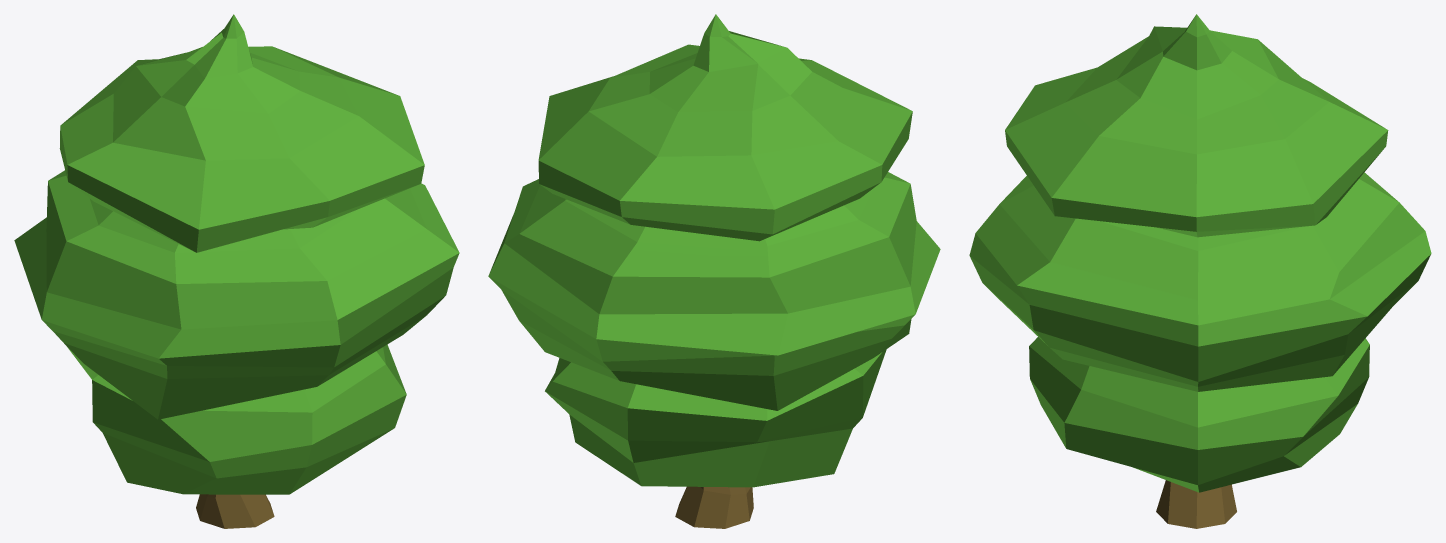
File: layered-bush.glb
The picture shows the model from 3 angles, left to right: view 1: azimuth 30°, elevation 25°; view 2: azimuth 150°, elevation 25°; view 3: azimuth 270°, elevation 25°; orthographic projection.
Visible parts, largest first — view 1: model; view 2: model; view 3: model.
Part boxes in pixels (bbox=[...]): model: bbox=[14, 14, 459, 528]; model: bbox=[488, 14, 940, 528]; model: bbox=[969, 14, 1431, 528].
Size of the model in its own units: 943 by 1143 by 963.
